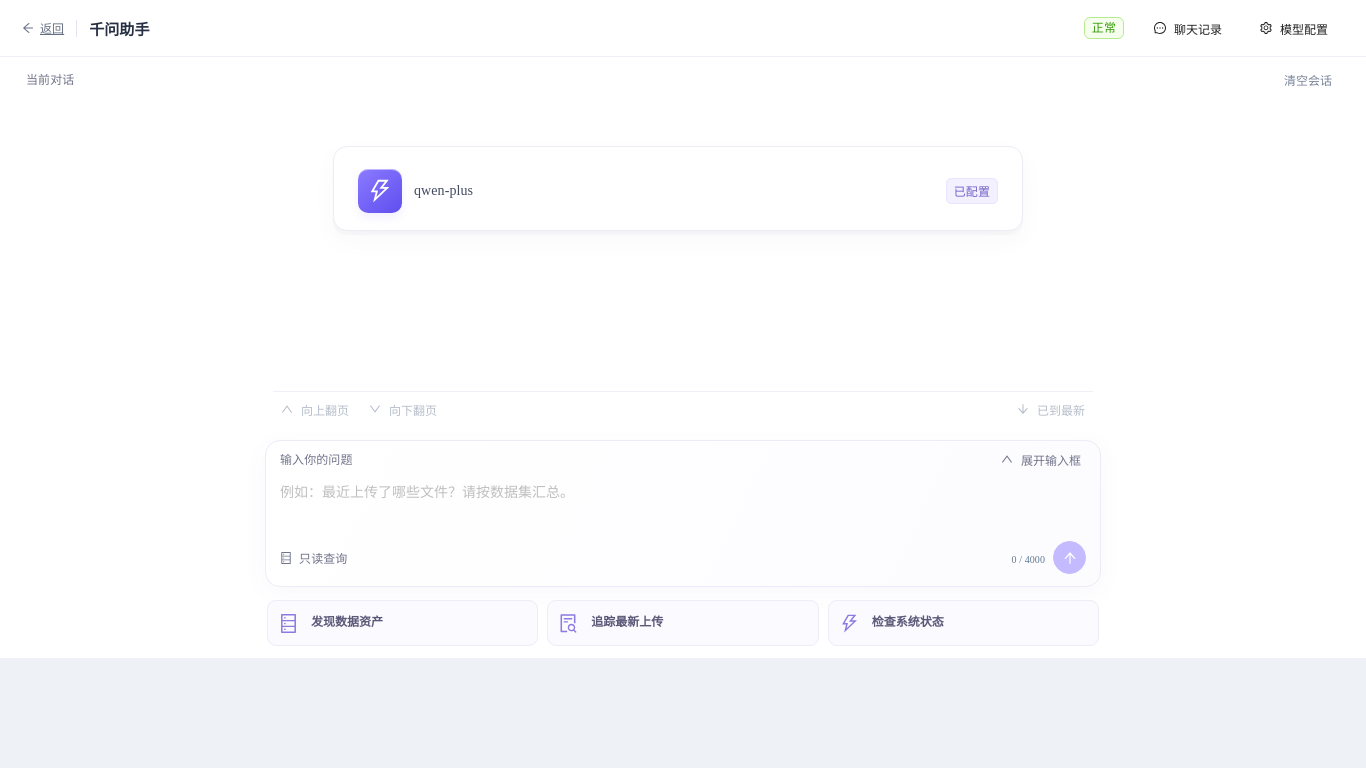
Scenario: Warehouse AI interface › suggests editable requirements without sending the draft and supports collapsing the controls
The width and height of the screenshot is (1366, 768).
Type "有哪些数据集？" into the text box named "输入问题" at (683, 504), box [280,479,1086,529]
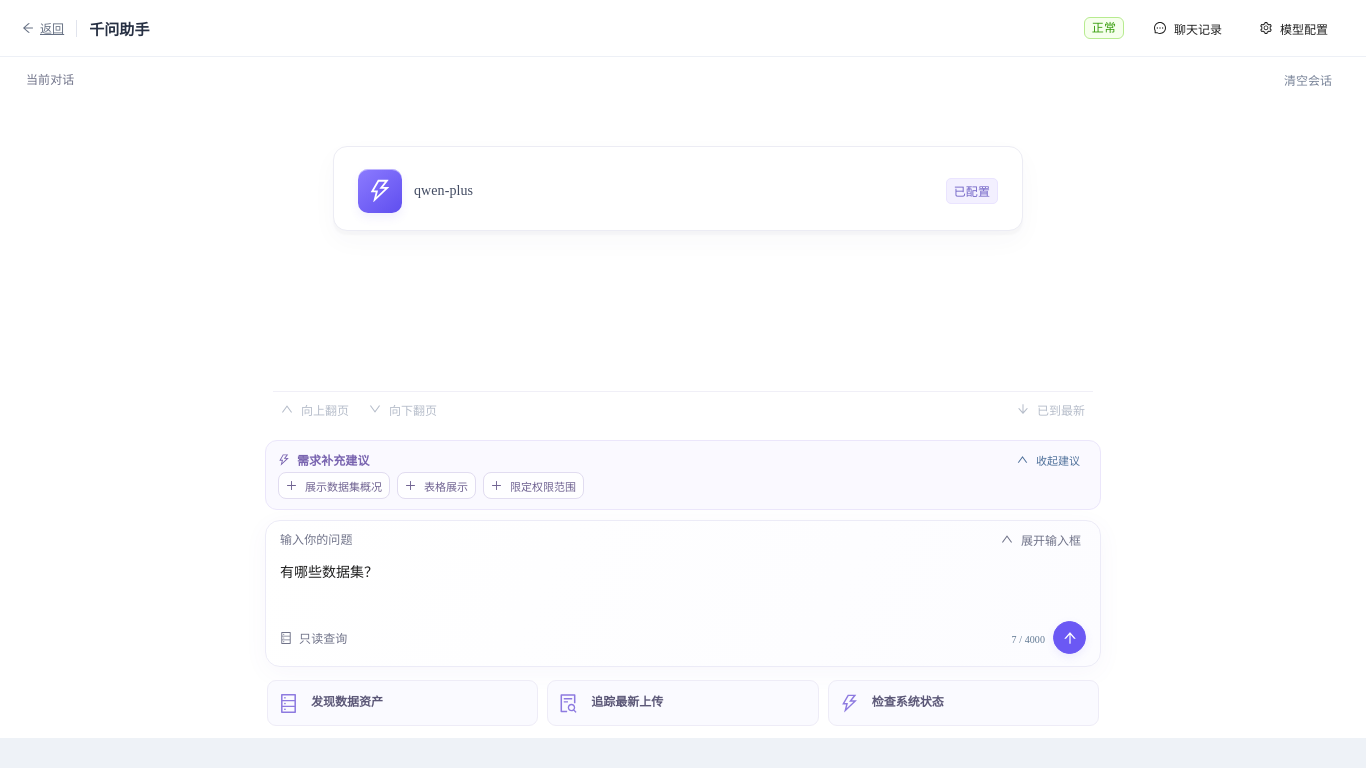
Expected: the element "需求补充建议" is shown, [265,440,1101,510]
Click the button "展示数据集概况" at (334, 486), box [278,472,390,499]
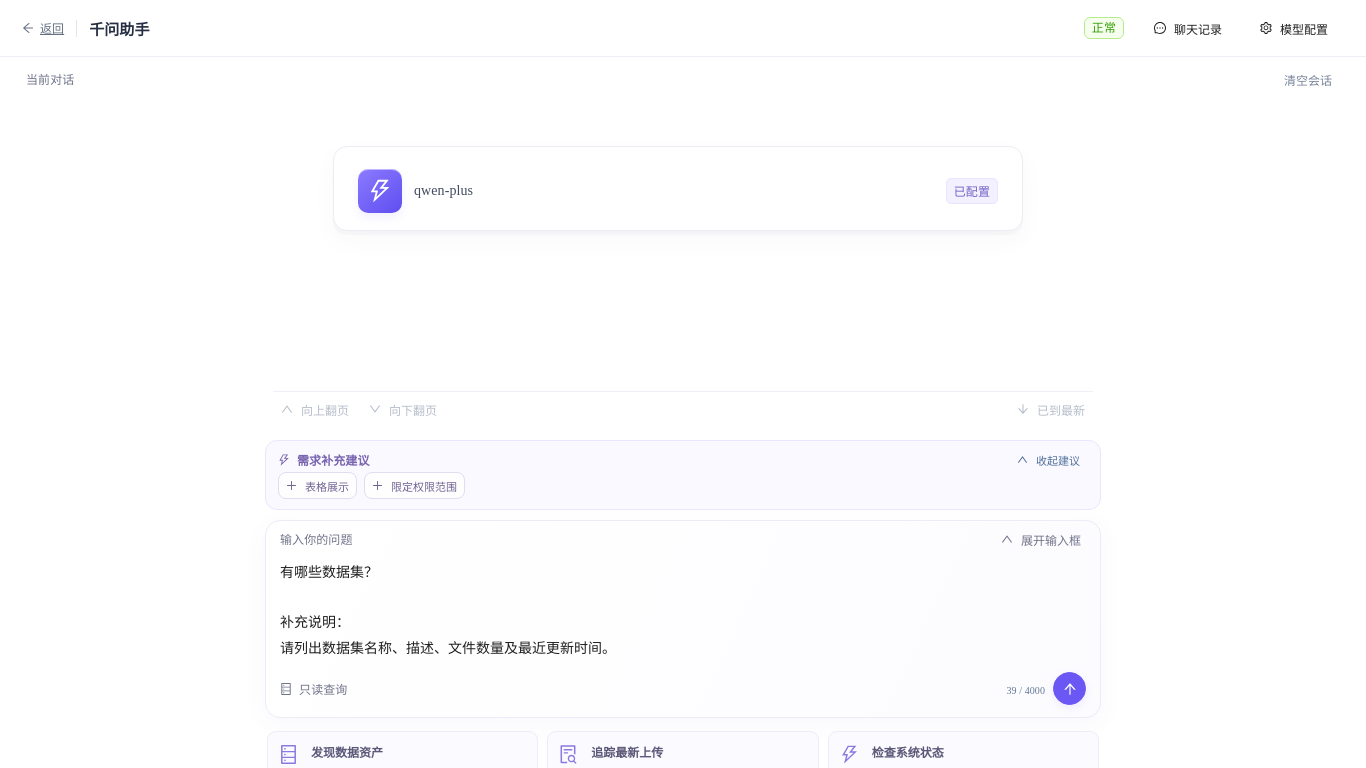
Expected: the button "展示数据集概况" is gone
Click the button "收起建议" at (1048, 460), box [1009,448,1088,472]
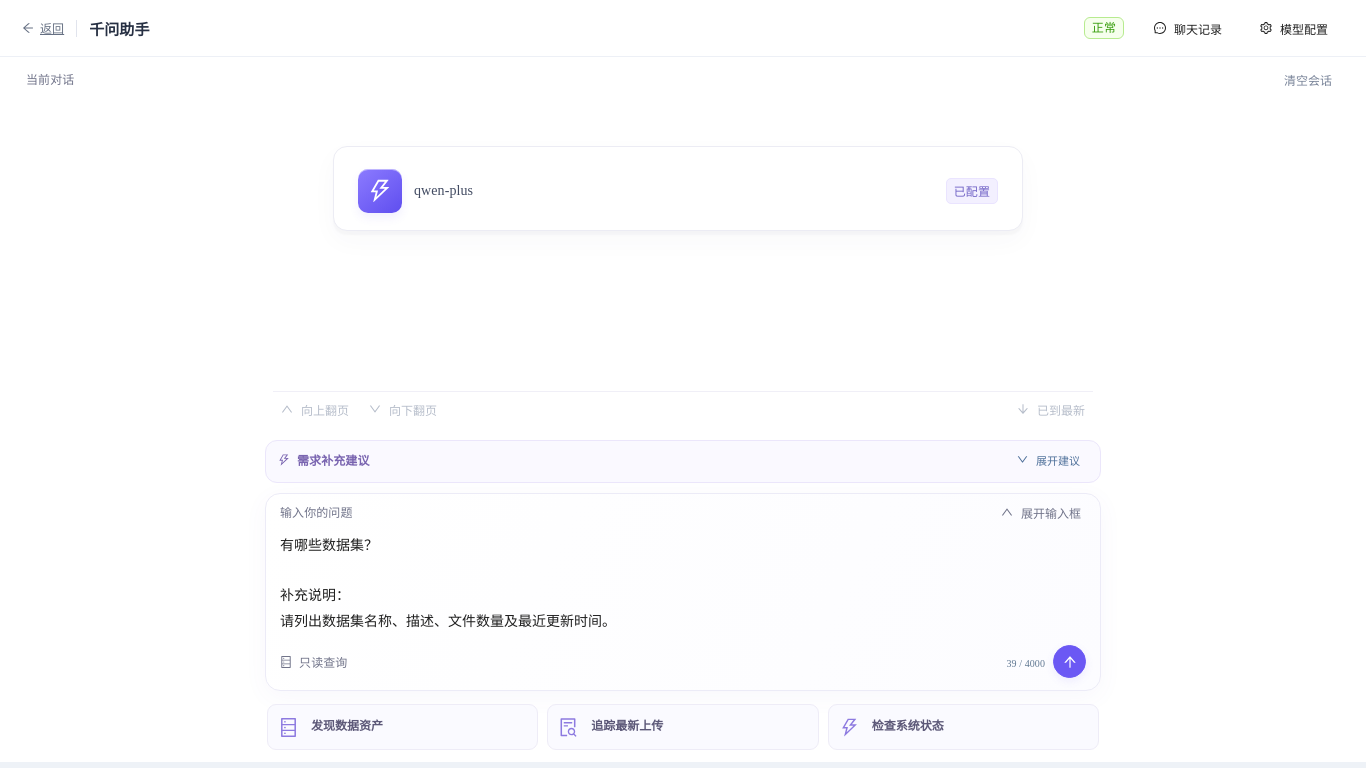
Expected: the button "表格展示" is gone
Click the button "展开建议" at (1048, 460), box [1009,448,1088,472]
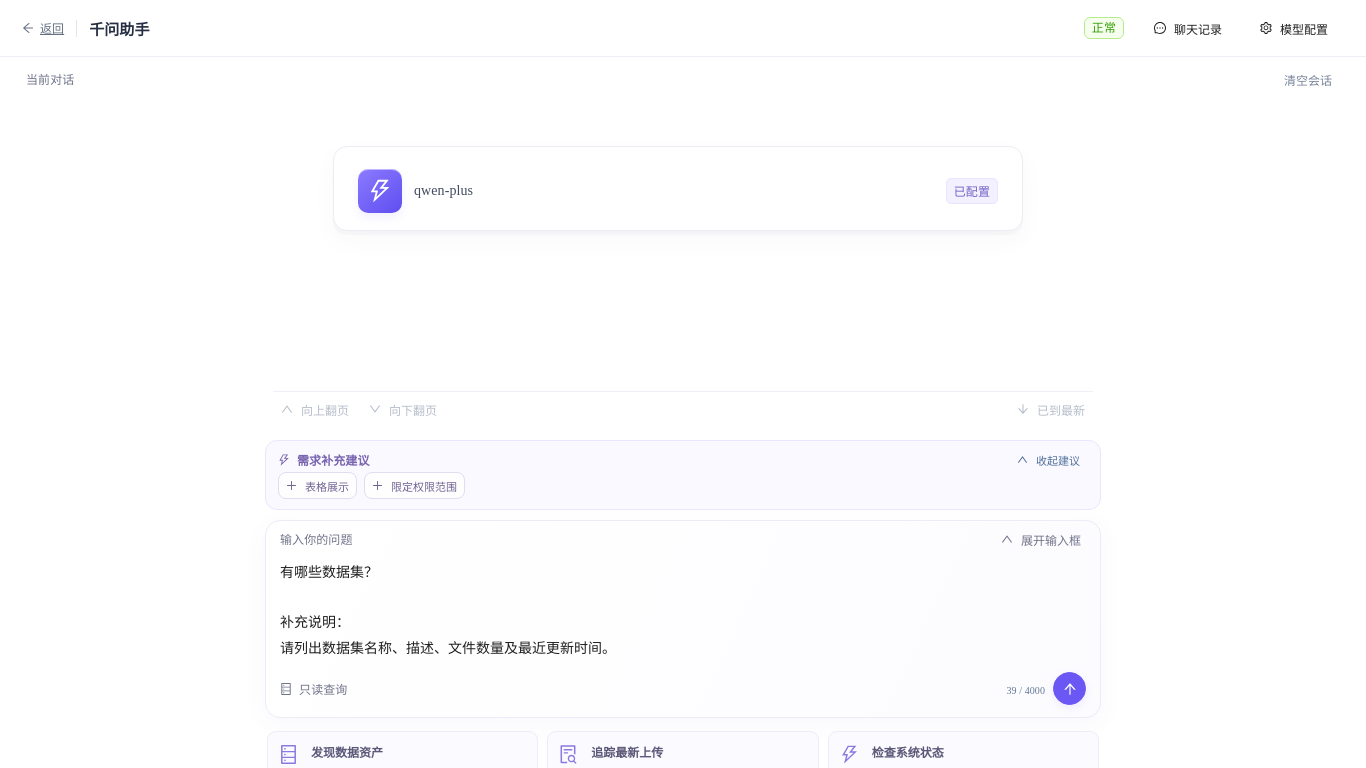
Expected: the button "表格展示" is shown, [278,472,357,499]
Click the button "展开输入框" at (1041, 539), box [993,527,1089,551]
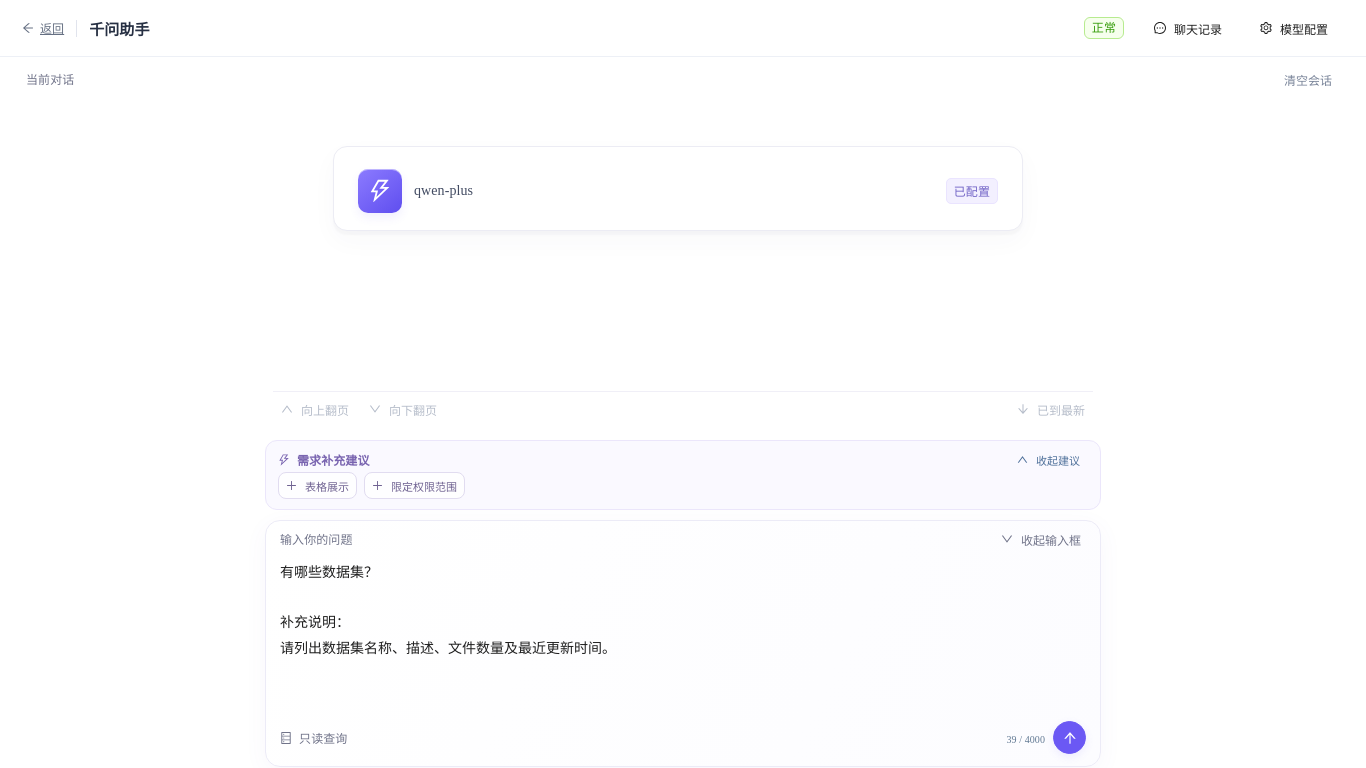
Expected: the button "收起输入框" is expanded, [993,527,1089,551]
Clear the text box named "输入问题" at (683, 634), box [280,559,1086,709]
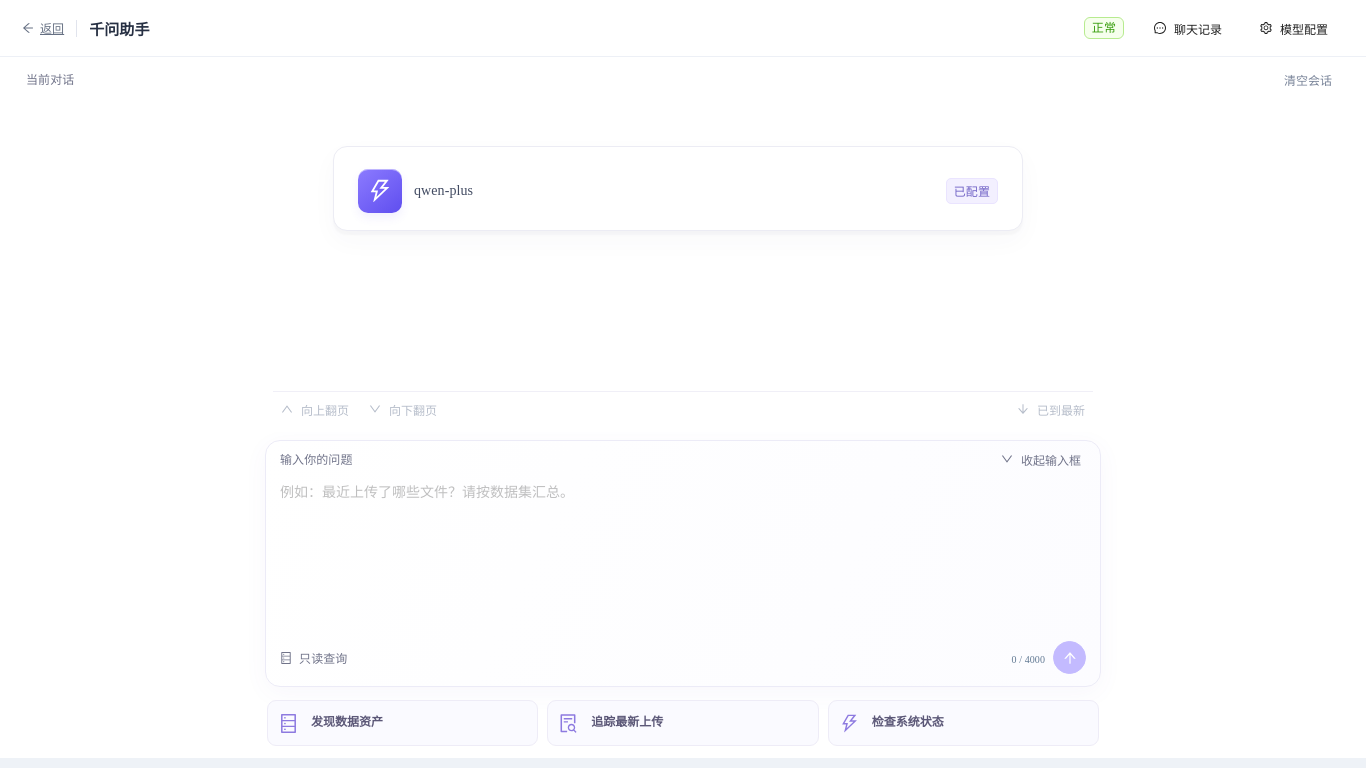
Expected: the element "需求补充建议" is gone
